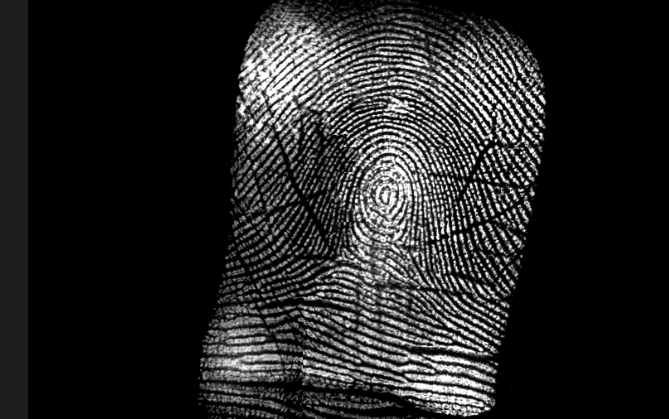deltas: (314, 239, 358, 276), (386, 229, 426, 269)
nucleo: (368, 170, 399, 208)
